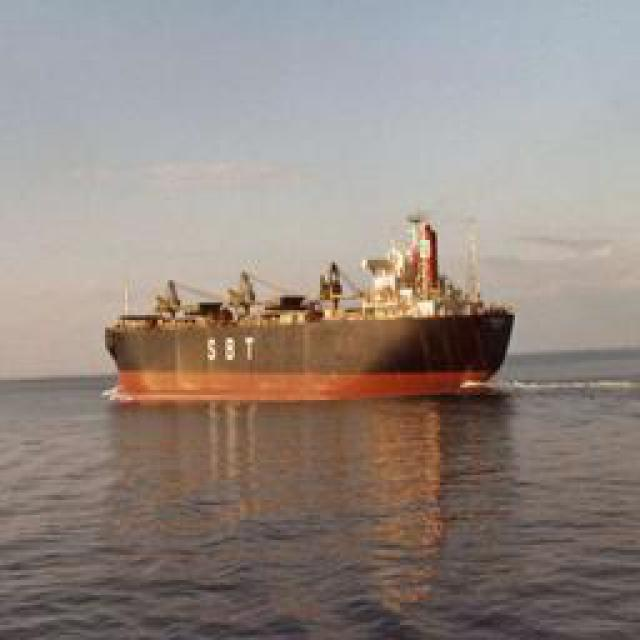Ship: (119, 286, 519, 401)
